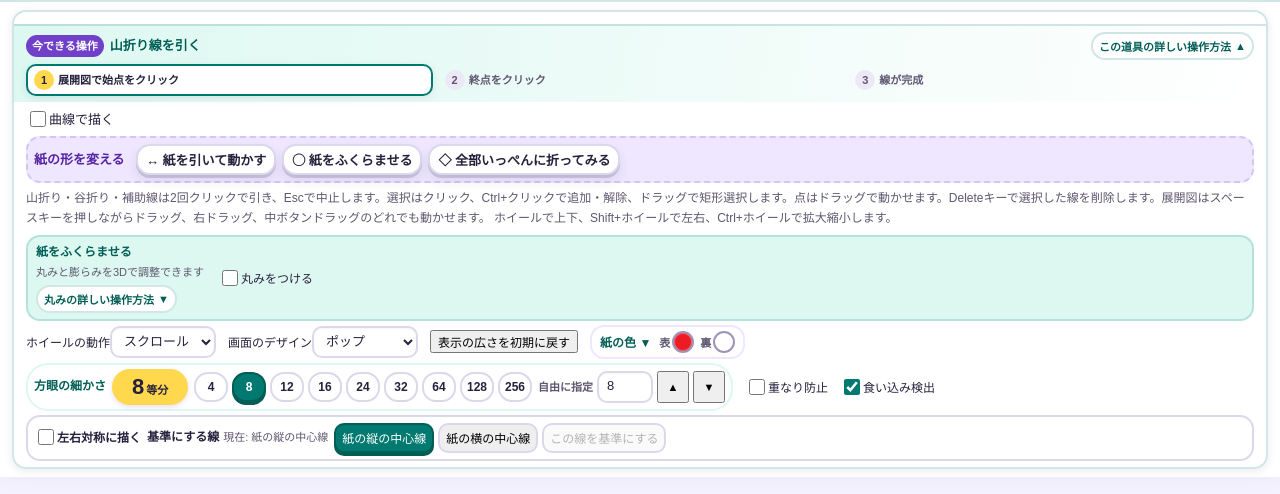
Test: コンテキストパネルの主操作順 › 全体の長い操作説明だけを畳み、現在操作と設定部品は残す
Expected: the text "山折り・谷折り・補助線は2回クリック" is shown, top-left (26, 191), bottom-right (1245, 225)
Click the button "この道具の詳しい操作方法 ▲" at (1173, 46), box top-left (1091, 32), bottom-right (1254, 60)
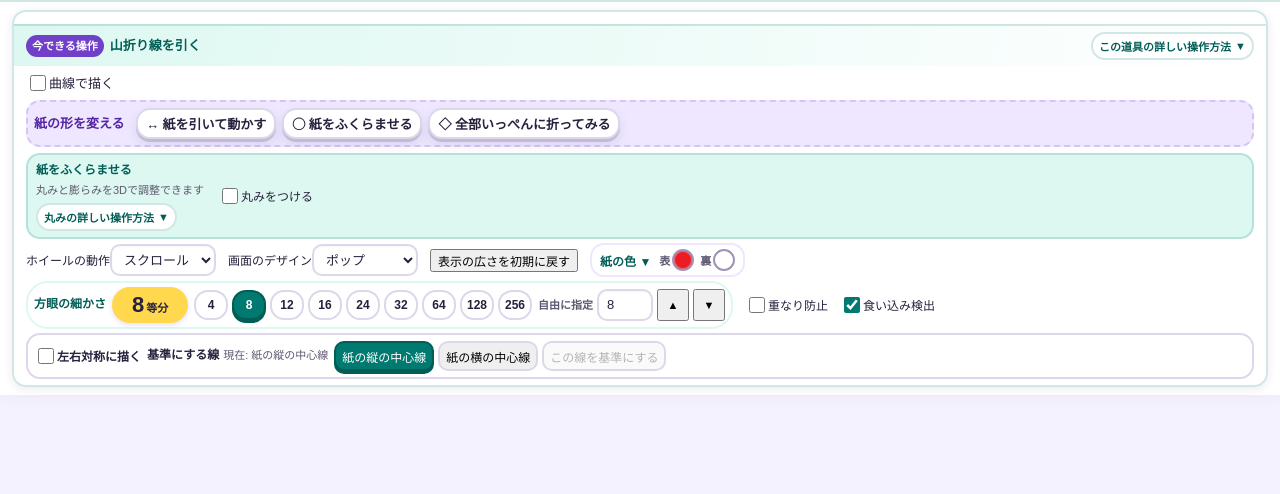
Expected: the text "今できる操作" is shown, top-left (26, 35), bottom-right (104, 57)
Expected: the text "山折り・谷折り・補助線は2回クリック" is gone
